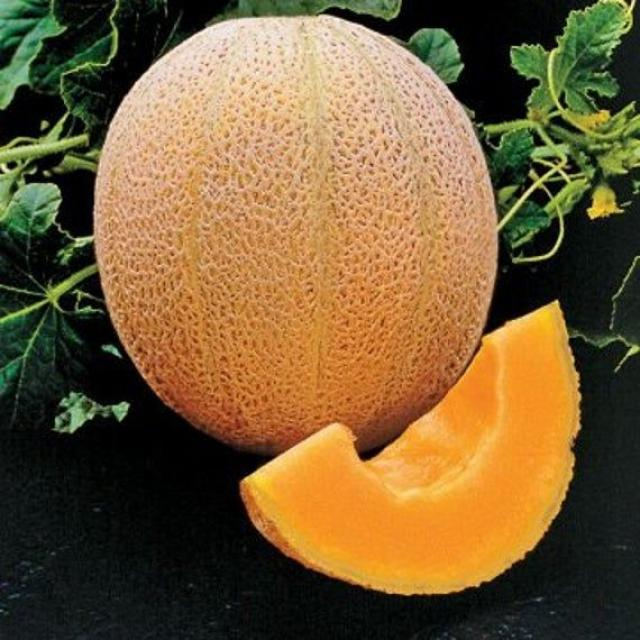melon: (88, 8, 500, 459)
